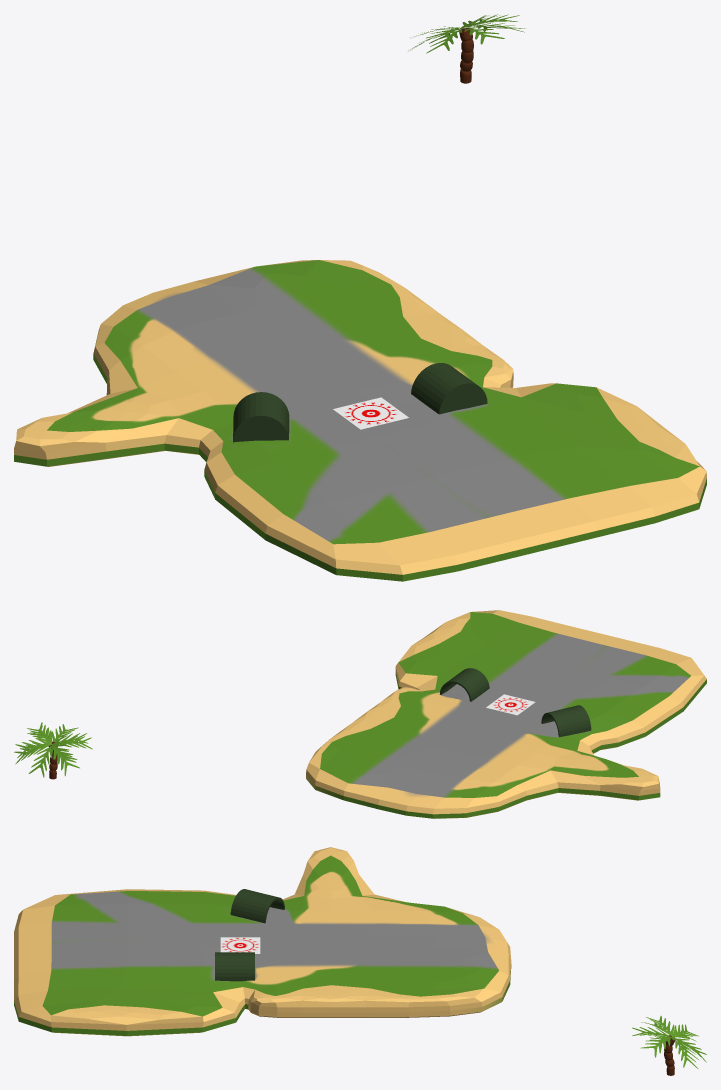
Rendered from ILHA_11052024.fbx.
3 renders of one model, top to bottom at view 1: azimuth 30°, elevation 25°; view 2: azimuth 150°, elevation 25°; view 3: azimuth 270°, elevation 25°, orthographic. The views are drawn at different scales.
Parts seen in each view (by area): view 1: IlhaBase, Hangar, Hangar.001, CoqueiroPrototipo, Piso Pouso; view 2: IlhaBase, CoqueiroPrototipo, Hangar.001, Hangar, Piso Pouso; view 3: IlhaBase, CoqueiroPrototipo, Hangar.001, Hangar, Piso Pouso.
Boxes of the visible parts, left/top/right/bottom form: IlhaBase: left=14, top=260, right=706, bottom=581; Hangar: left=411, top=363, right=487, bottom=414; Hangar.001: left=233, top=392, right=289, bottom=442; CoqueiroPrototipo: left=408, top=14, right=526, bottom=83; Piso Pouso: left=333, top=397, right=408, bottom=429; IlhaBase: left=306, top=610, right=706, bottom=818; CoqueiroPrototipo: left=14, top=722, right=92, bottom=779; Hangar.001: left=541, top=705, right=591, bottom=737; Hangar: left=439, top=668, right=489, bottom=701; Piso Pouso: left=486, top=694, right=535, bottom=715; IlhaBase: left=14, top=847, right=511, bottom=1036; CoqueiroPrototipo: left=632, top=1016, right=706, bottom=1075; Hangar.001: left=230, top=889, right=284, bottom=923; Hangar: left=215, top=952, right=254, bottom=981; Piso Pouso: left=220, top=937, right=260, bottom=953.
Size of what is drawn, in the model's own units: 3056 by 404 by 3484.
